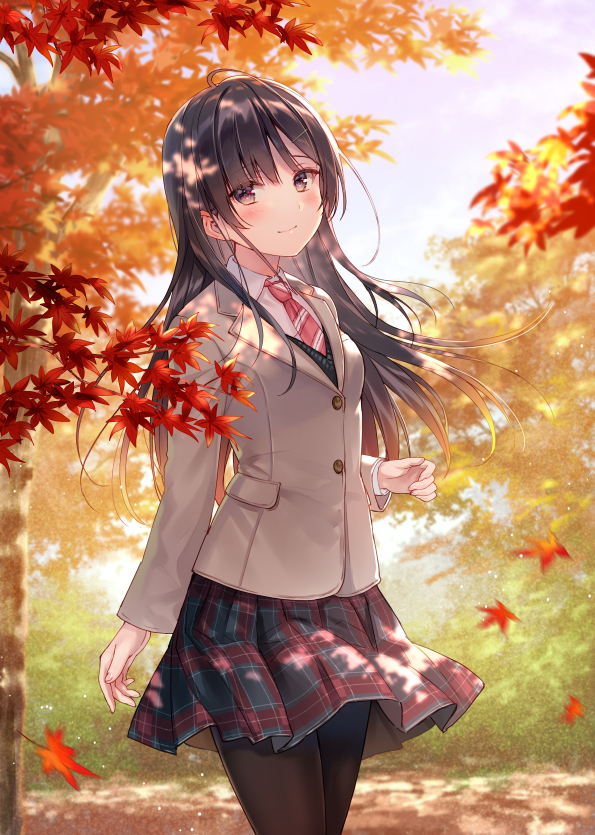纸片人正脸: (157, 64, 352, 268)
